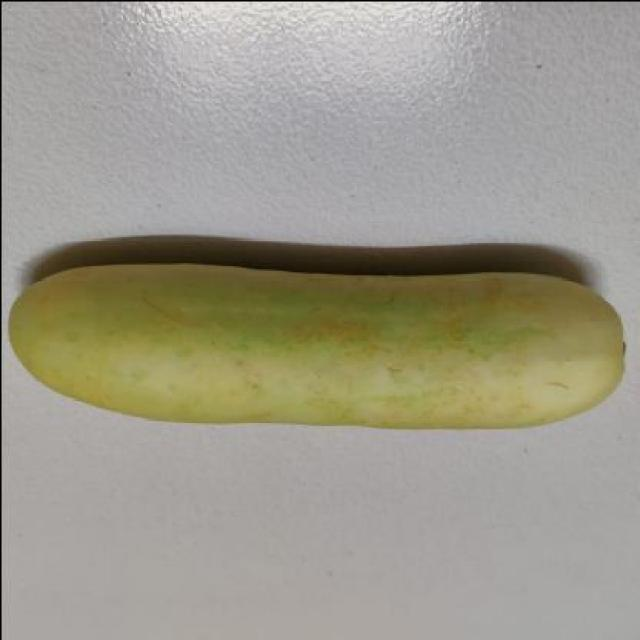cucumber: (0, 241, 632, 424)
